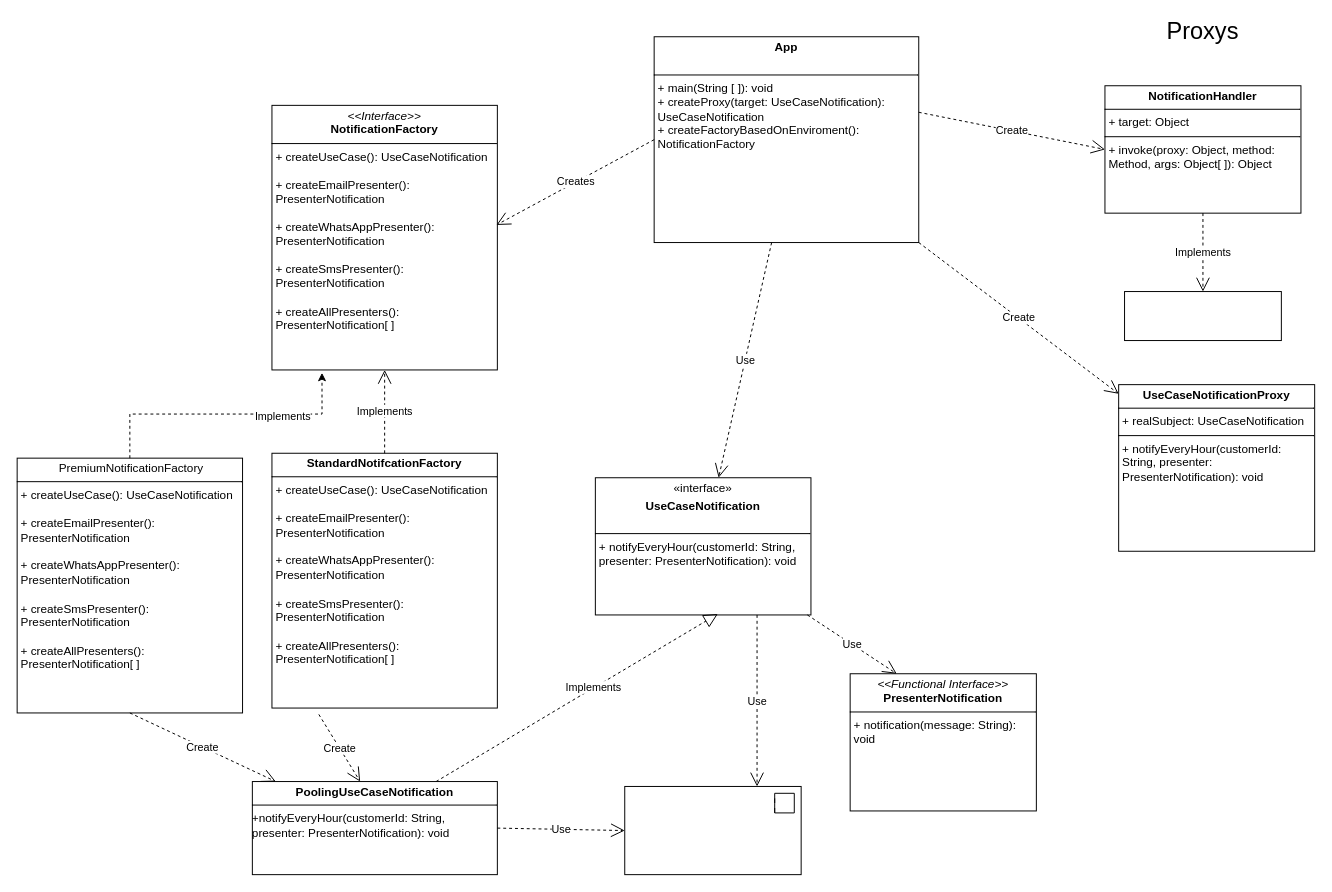
Image size: 1332x892. Some labels were removed from this diagram. Each missing label, with the box of its shape:
InvocationHandler: (1124, 291, 1281, 341)
«Annotation» Transaction: (624, 785, 801, 875)
